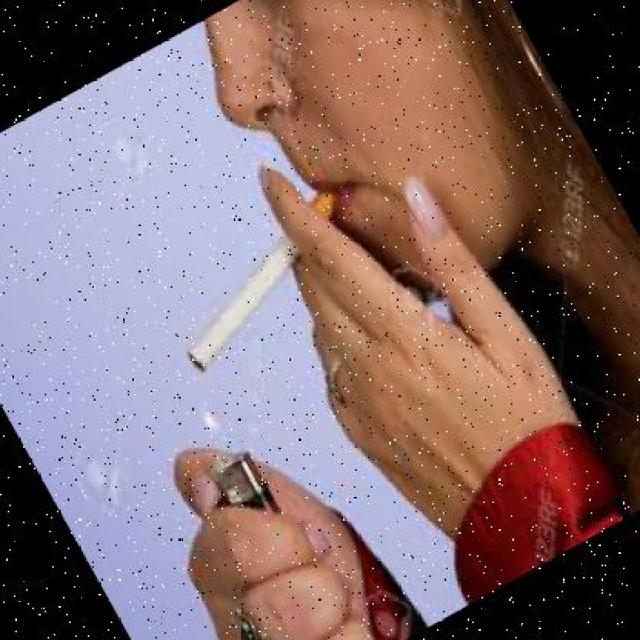fire: (169, 370, 249, 464)
